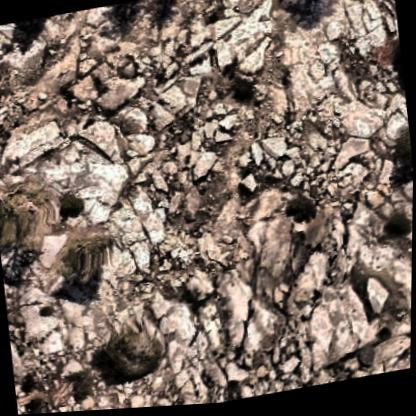tree-top: (95, 312, 166, 392), (48, 219, 116, 289)
